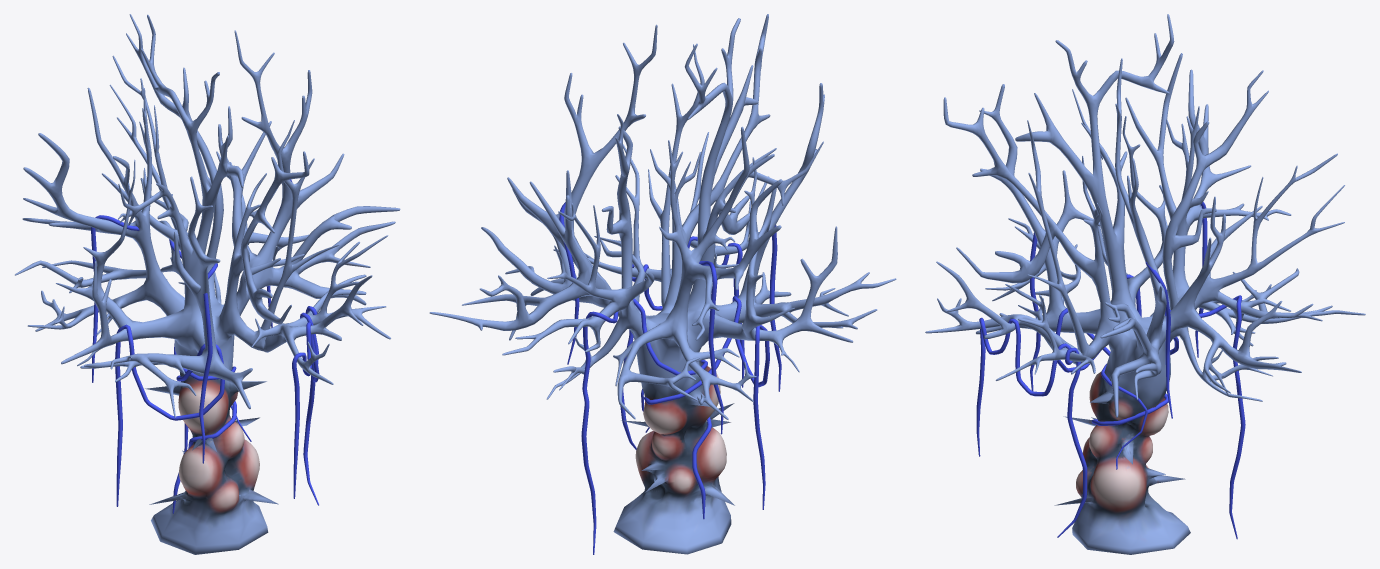
File: trees_3_w_vines.fbx
3 renders of one model, left to right at view 1: azimuth 30°, elevation 25°; view 2: azimuth 150°, elevation 25°; view 3: azimuth 270°, elevation 25°, orthographic.
Parts seen in each view (by area): view 1: tree 3.001, type 3; view 2: tree 3.001, type 3; view 3: tree 3.001, type 3.
Boxes of the visible parts, <box> form: tree 3.001: <box>15,14,400,554</box>; type 3: <box>91,179,319,513</box>; tree 3.001: <box>429,14,896,554</box>; type 3: <box>559,202,781,554</box>; tree 3.001: <box>925,14,1365,554</box>; type 3: <box>976,201,1245,539</box>.
Bounding box in the file's own units: 681 × 949 × 748.
